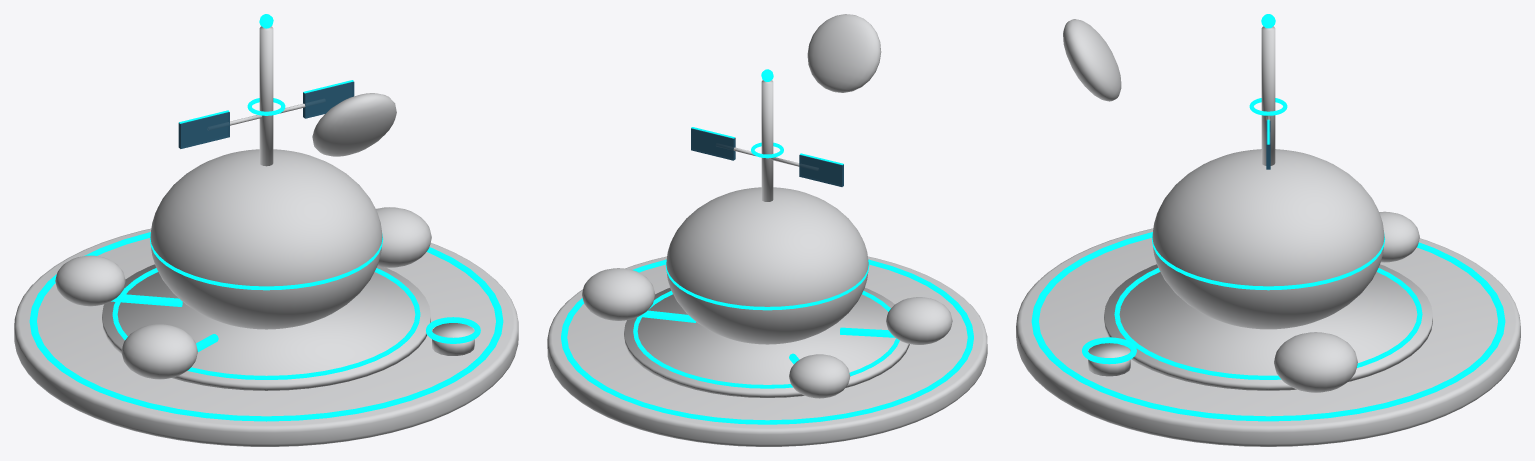
The model's file is azure_command_headquarters.glb.
3 views of the same model, side by side, from view 1: azimuth 30°, elevation 25°; view 2: azimuth 150°, elevation 25°; view 3: azimuth 270°, elevation 25° (orthographic). The views are drawn at different scales.
Visible parts, largest first — view 1: AzureCommandHQ; view 2: AzureCommandHQ; view 3: AzureCommandHQ.
Boxes of the visible parts, <box> form: AzureCommandHQ: <box>14,14,518,446</box>; AzureCommandHQ: <box>547,14,987,446</box>; AzureCommandHQ: <box>1016,14,1520,446</box>.
Bounding box in the file's own units: 6.6 × 4.72 × 6.6.
